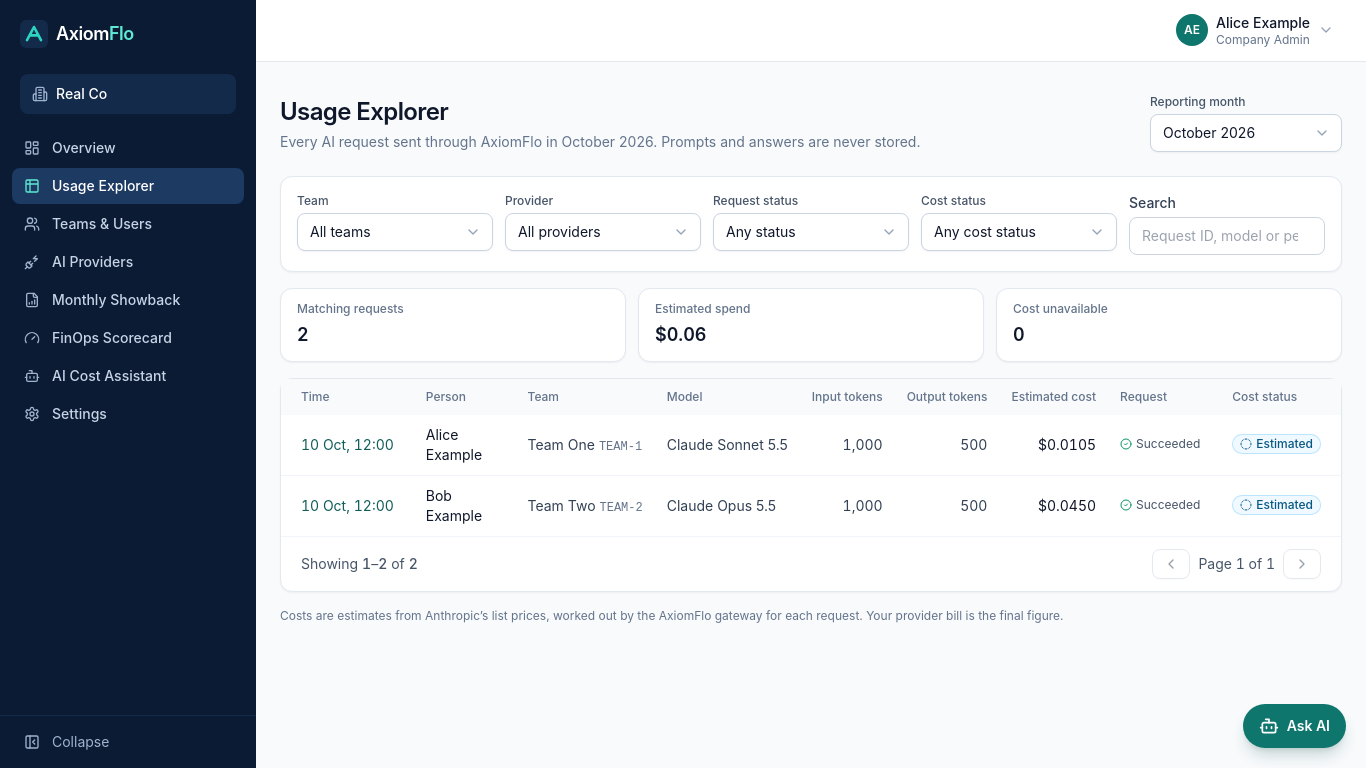
real workspace pages › Usage Explorer lists requests and opens one without any prompt or answer
Step 1. Click the button with aria-label "Open details for request r2" → coordinates (347, 506), box [301,496,394,516]
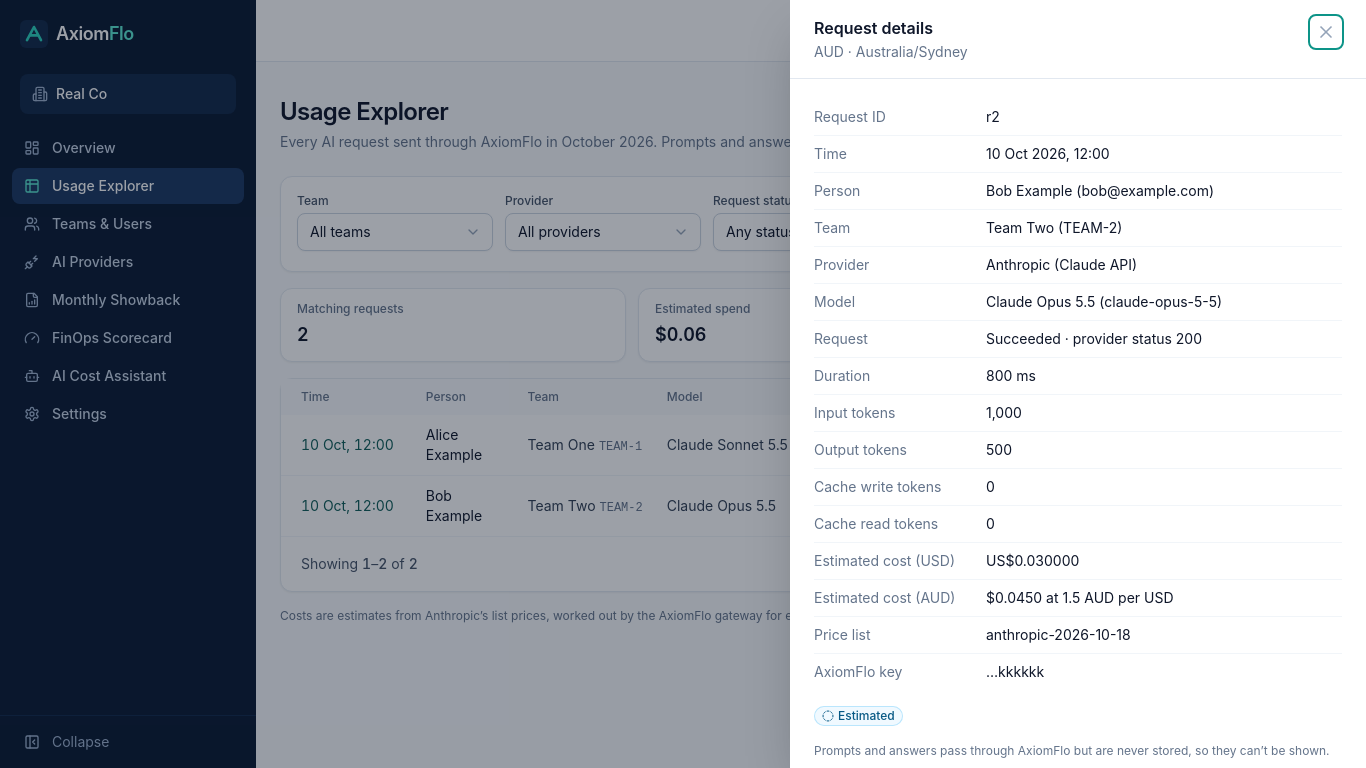
Check: the text "r2" is shown, box [986,108,1000,125]
Check: the text "Claude Opus 5.5 (claude-opus-5-5)" is shown, box [986,293,1222,310]
Check: the text "never stored" is shown, box [814,743,1330,758]
